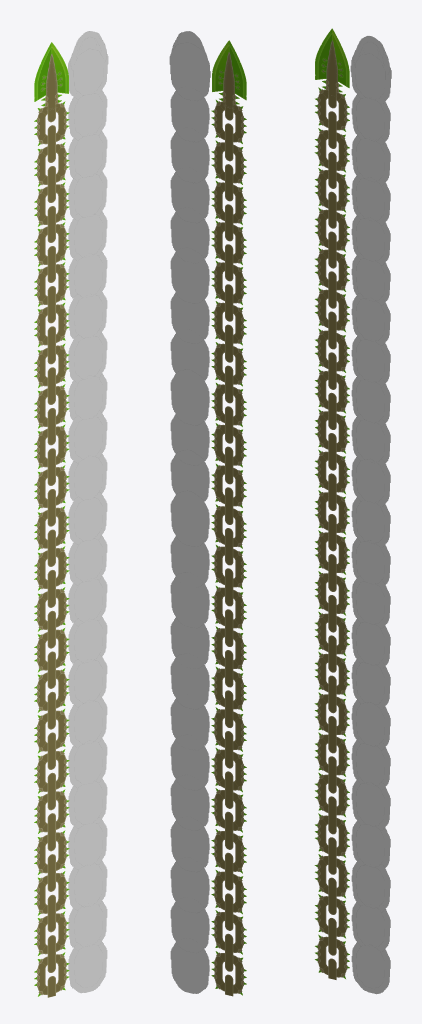
File: ChainBullet.fbx
3 renders of one model, left to right at view 1: azimuth 30°, elevation 25°; view 2: azimuth 150°, elevation 25°; view 3: azimuth 330°, elevation 25°, orthographic.
Parts seen in each view (by area): view 1: SpearTip, MapIcon 1, ChainPlane 16, ChainPlane, ChainPlane 3, ChainPlane 6, ChainPlane 18, ChainPlane 20, ChainPlane 12, ChainPlane 15, ChainPlane 1, ChainPlane 13 (+57 smaller); view 2: MapIconOutline 2 (×2), MapIconOutline 1, MapIconOutline 12, MapIconOutline 9, MapIconOutline 6, MapIconOutline 14, MapIconOutline 16, MapIconOutline 18, MapIconOutline 23, MapIconOutline 22, MapIconOutline 20, MapIconOutline 19 (+34 smaller); view 3: SpearTip, MapIcon 1, ChainPlane 15, ChainPlane 10, ChainPlane 4, ChainPlane 18, ChainPlane 8, ChainPlane 2, ChainPlane 6, ChainPlane 1, ChainPlane, ChainPlane 20 (+57 smaller).
Boxes of the visible parts, <box> form: SpearTip: <box>34,42,68,110</box>; MapIcon 1: <box>73,48,103,95</box>; ChainPlane 16: <box>34,302,69,347</box>; ChainPlane: <box>34,952,69,997</box>; ChainPlane 3: <box>34,748,69,794</box>; ChainPlane 6: <box>34,586,69,632</box>; ChainPlane 18: <box>34,182,69,227</box>; ChainPlane 20: <box>34,101,69,146</box>; ChainPlane 12: <box>34,464,69,510</box>; ChainPlane 15: <box>34,261,69,307</box>; ChainPlane 1: <box>34,911,69,956</box>; ChainPlane 13: <box>34,424,69,469</box>; MapIconOutline 2 (×2): <box>170,31,209,142</box>; MapIconOutline 1: <box>169,42,210,100</box>; MapIconOutline 12: <box>170,490,209,546</box>; MapIconOutline 9: <box>170,369,209,425</box>; MapIconOutline 6: <box>170,248,209,303</box>; MapIconOutline 14: <box>170,572,209,628</box>; MapIconOutline 16: <box>170,653,209,709</box>; MapIconOutline 18: <box>170,734,209,790</box>; MapIconOutline 23: <box>170,938,209,993</box>; MapIconOutline 22: <box>170,897,209,952</box>; MapIconOutline 20: <box>170,816,209,872</box>; MapIconOutline 19: <box>170,775,209,830</box>; SpearTip: <box>315,28,349,96</box>; MapIcon 1: <box>355,53,385,100</box>; ChainPlane 15: <box>315,247,349,292</box>; ChainPlane 10: <box>315,651,349,696</box>; ChainPlane 4: <box>315,772,349,817</box>; ChainPlane 18: <box>315,167,349,213</box>; ChainPlane 8: <box>315,490,349,535</box>; ChainPlane 2: <box>314,853,349,899</box>; ChainPlane 6: <box>315,571,349,616</box>; ChainPlane 1: <box>315,894,349,939</box>; ChainPlane: <box>315,934,349,979</box>; ChainPlane 20: <box>315,87,349,132</box>.
Size of the model in its own units: 31.14 by 262 by 0.7.
Materials: 4 (4 with a texture image).
